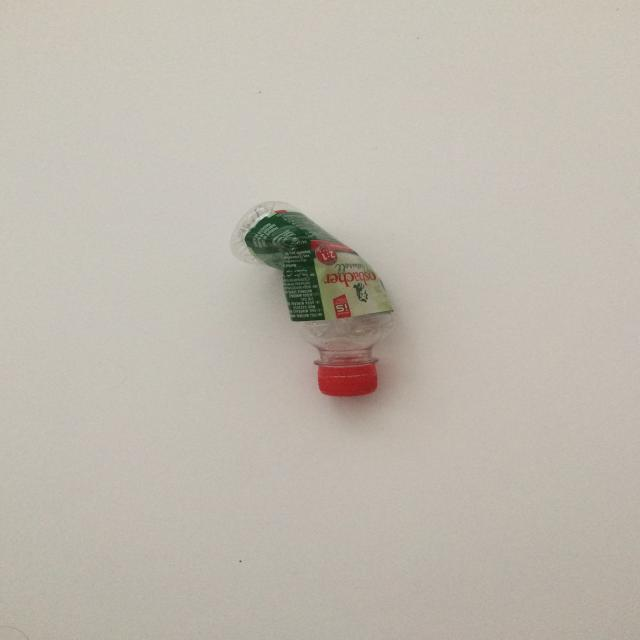plastic: (229, 200, 397, 396)
